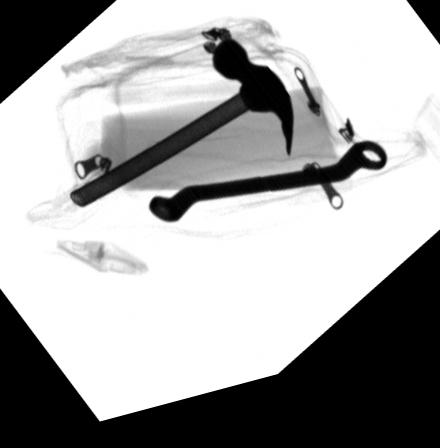Hammer: (68, 47, 295, 212)
Wrench: (149, 155, 388, 230)
